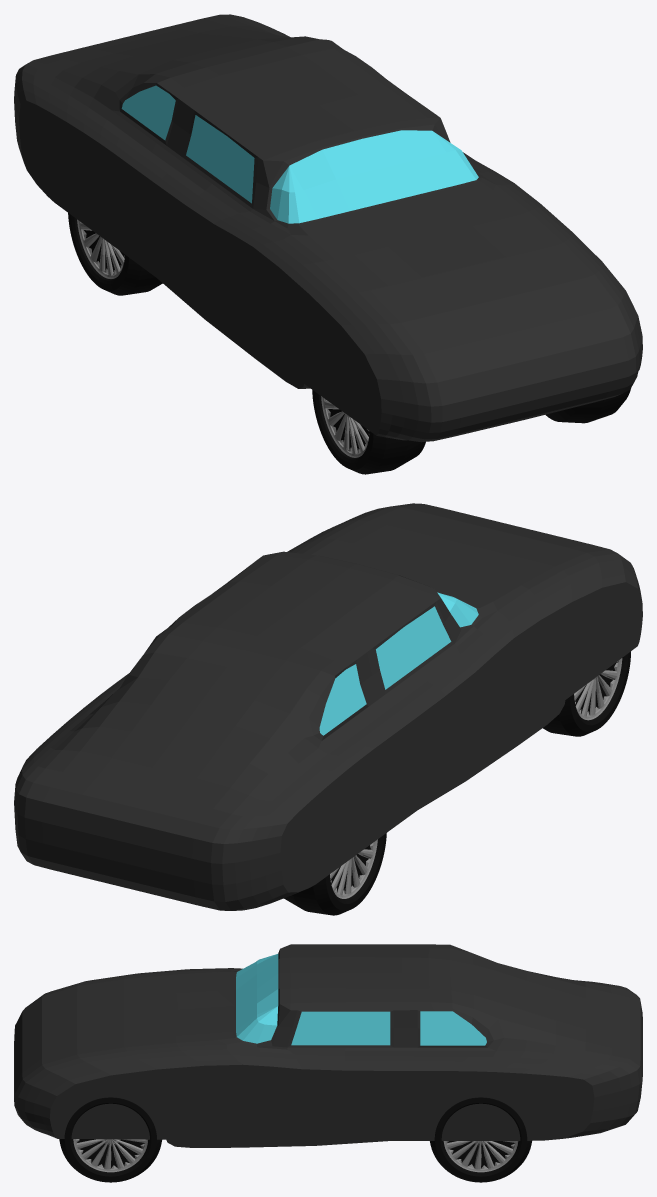
The model's file is AgentCar.fbx.
3 views of the same model, one above another, from view 1: azimuth 30°, elevation 25°; view 2: azimuth 150°, elevation 25°; view 3: azimuth 270°, elevation 25° (orthographic). The views are drawn at different scales.
Visible parts, largest first — view 1: Body, Front Wheel Right, Rear Wheel RIght, Front Wheel Left; view 2: Body, Rear Wheel RIght, Front Wheel Right; view 3: Body, Front Wheel Left, Rear Wheel Left.
Part boxes in pixels (x1,y1,x2,y2): Body: (14,14,642,442); Front Wheel Right: (312,390,425,474); Rear Wheel RIght: (68,213,162,295); Front Wheel Left: (545,388,630,423); Body: (14,503,642,910); Rear Wheel RIght: (284,833,386,915); Front Wheel Right: (543,651,630,736); Body: (14,944,642,1147); Front Wheel Left: (59,1097,161,1182); Rear Wheel Left: (430,1097,531,1182).
Size of the model in its own units: 149 by 121 by 413.
